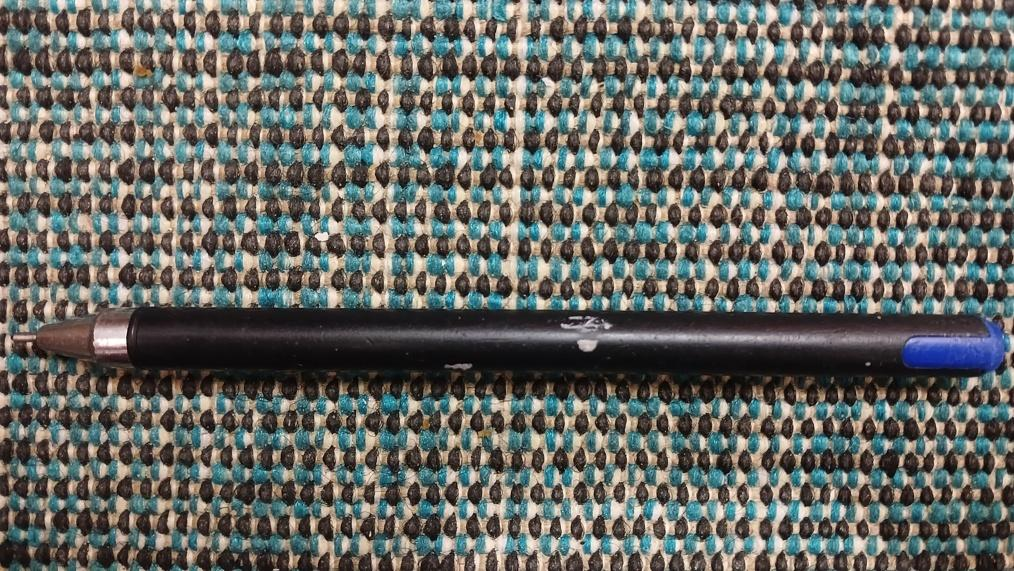pen: (11, 310, 1014, 374)
